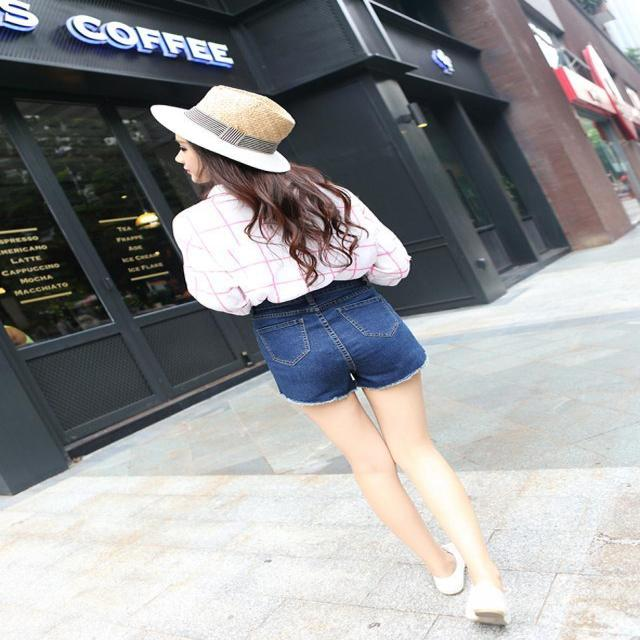long sleeve top: (178, 173, 409, 315)
shorts: (251, 272, 429, 395)
